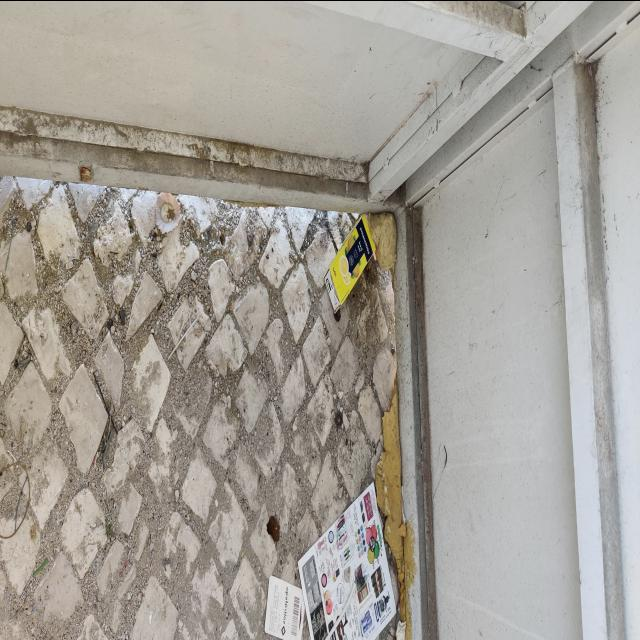Drink carton: (323, 212, 376, 314)
Magazine paper: (298, 481, 396, 640)
Normal paper: (265, 574, 305, 640)
Unlabeled litter: (168, 315, 199, 361)
